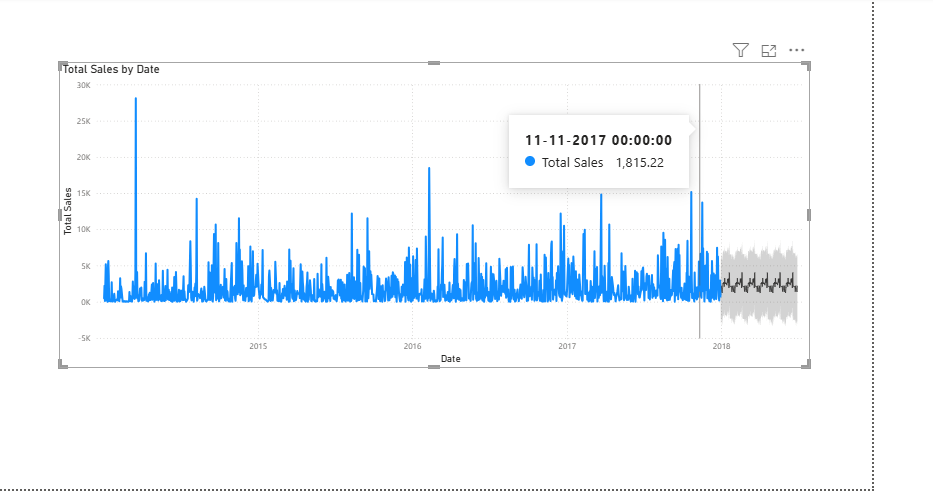

The dashboard page shown, as its layout file describes it:
{"tool":"powerbi","page":{"name":"Page 2","canvas":[1280,720],"ordinal":1},"visuals":[{"type":"lineChart","fields":{"Category":["DateTable.Date"],"Y":["DateTable.Total Sales"]},"box":[89,95.7,1098.6,446.8],"z":0}]}

Visuals, with their boxes on the page's 1280x720 design canvas (x1, y1, x2, y2). These are canvas units, not pixel positions in the 933x492 screenshot, which may show the page scaled, cropped or inside an application window:
lineChart - DateTable.Date x DateTable.Total Sales: BBox(89, 96, 1188, 542)
